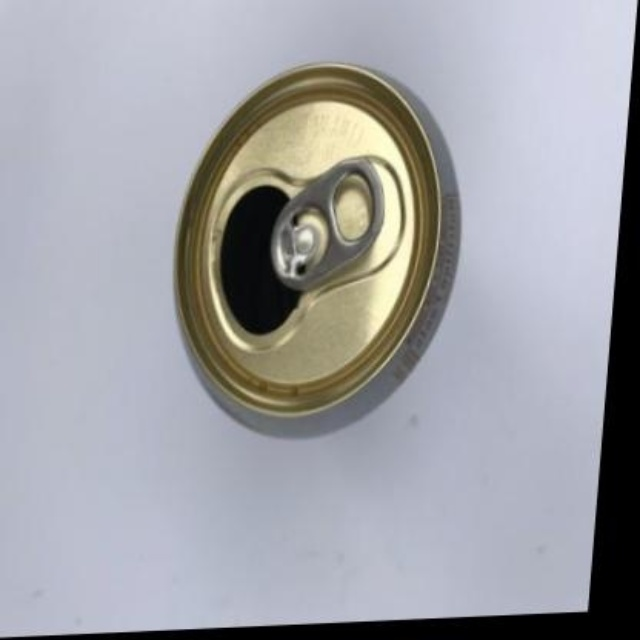trash: (175, 65, 458, 435)
